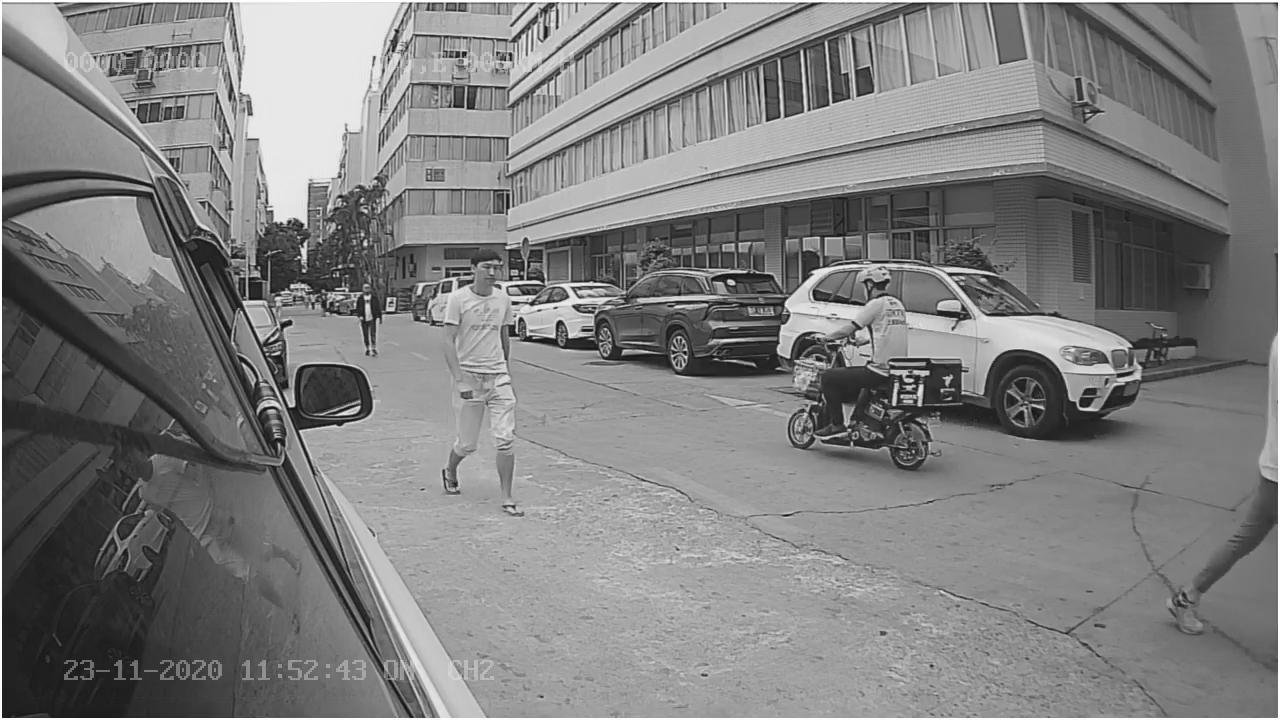person: (440, 247, 523, 514), (811, 256, 915, 344)
